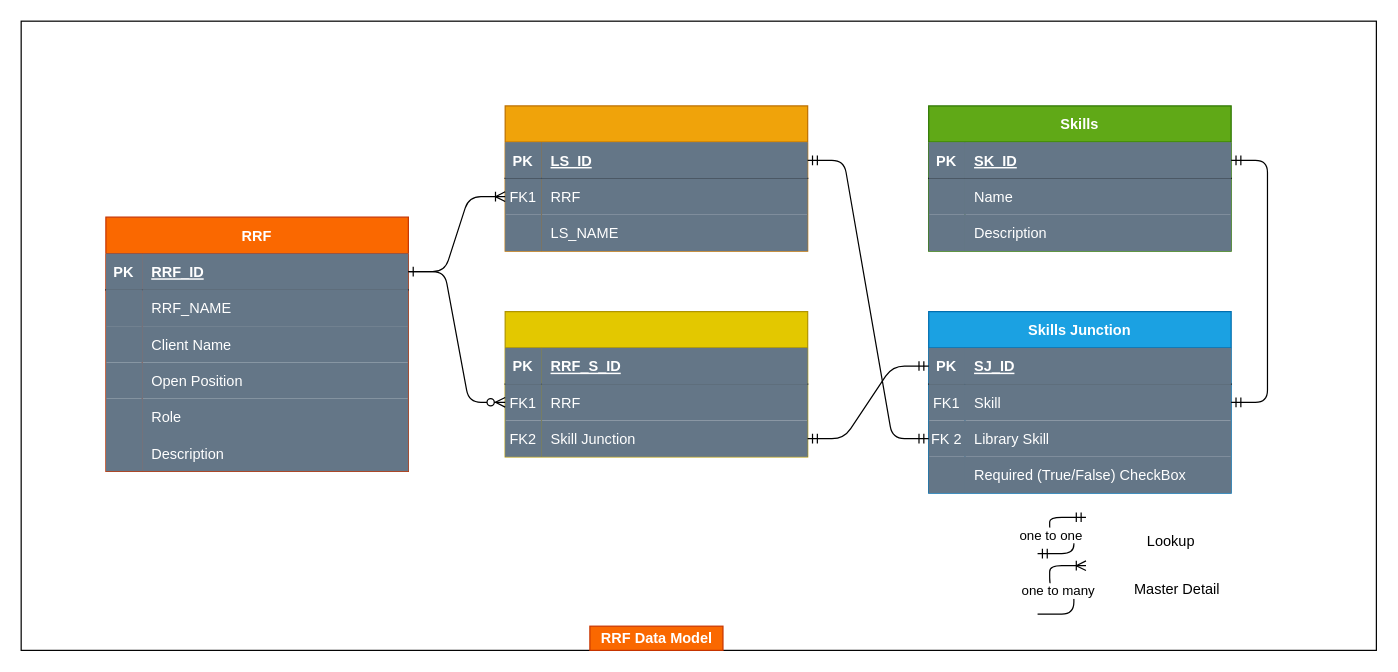
Some shapes in this 1398 by 672 pixel diagram are drawn without their labels. Each missing label, with the box of its shape:
Library Skills: (504, 105, 808, 251)
RRF_Segment: (504, 310, 808, 457)
